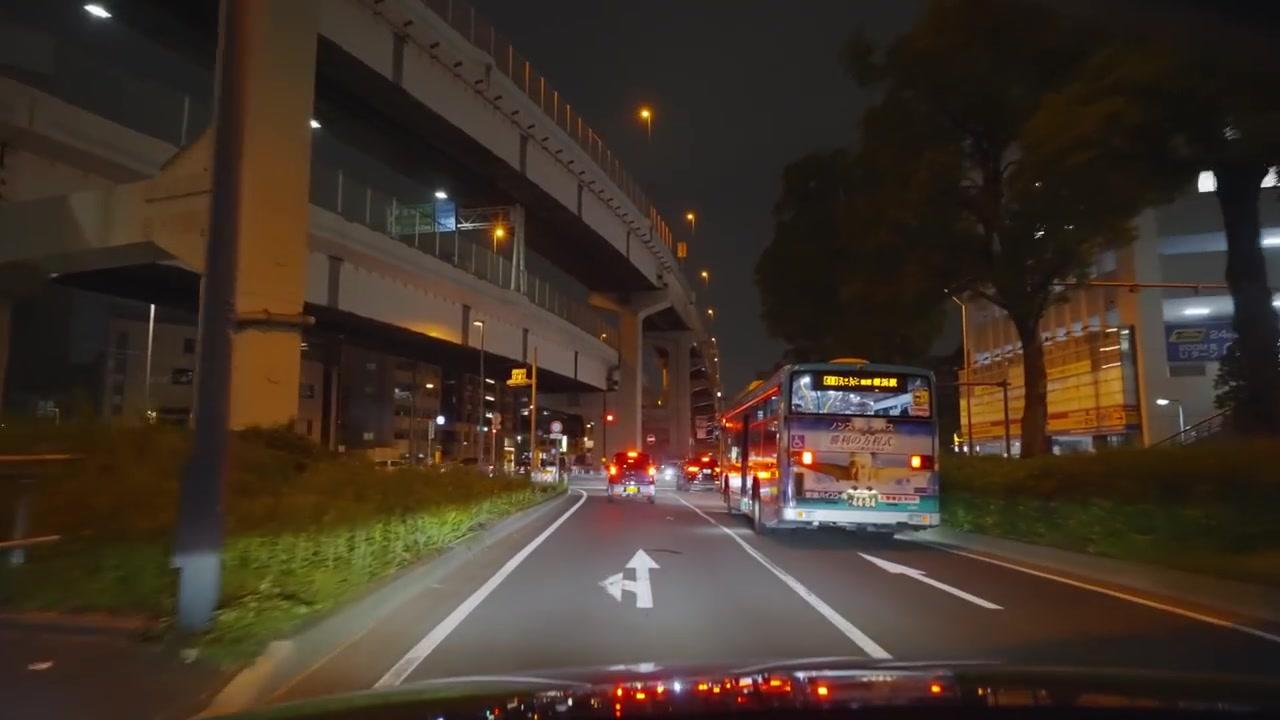bus: (717, 360, 941, 535)
car: (606, 449, 657, 503), (683, 450, 718, 486)
